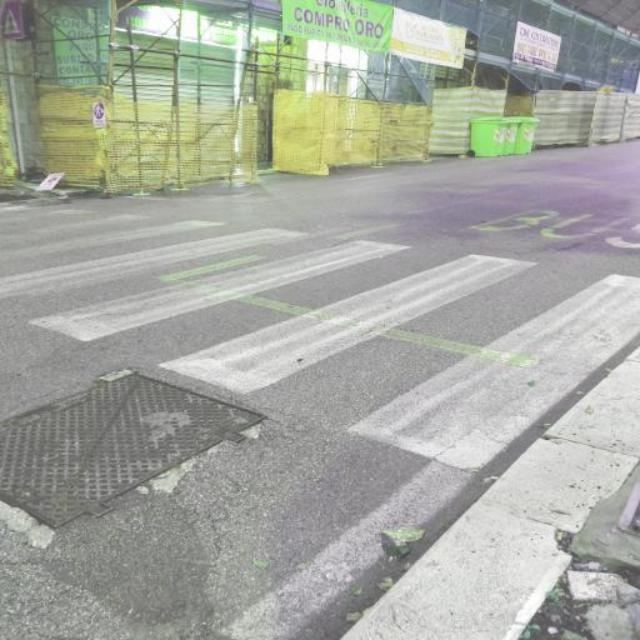sidewalk: (0, 203, 639, 473)
